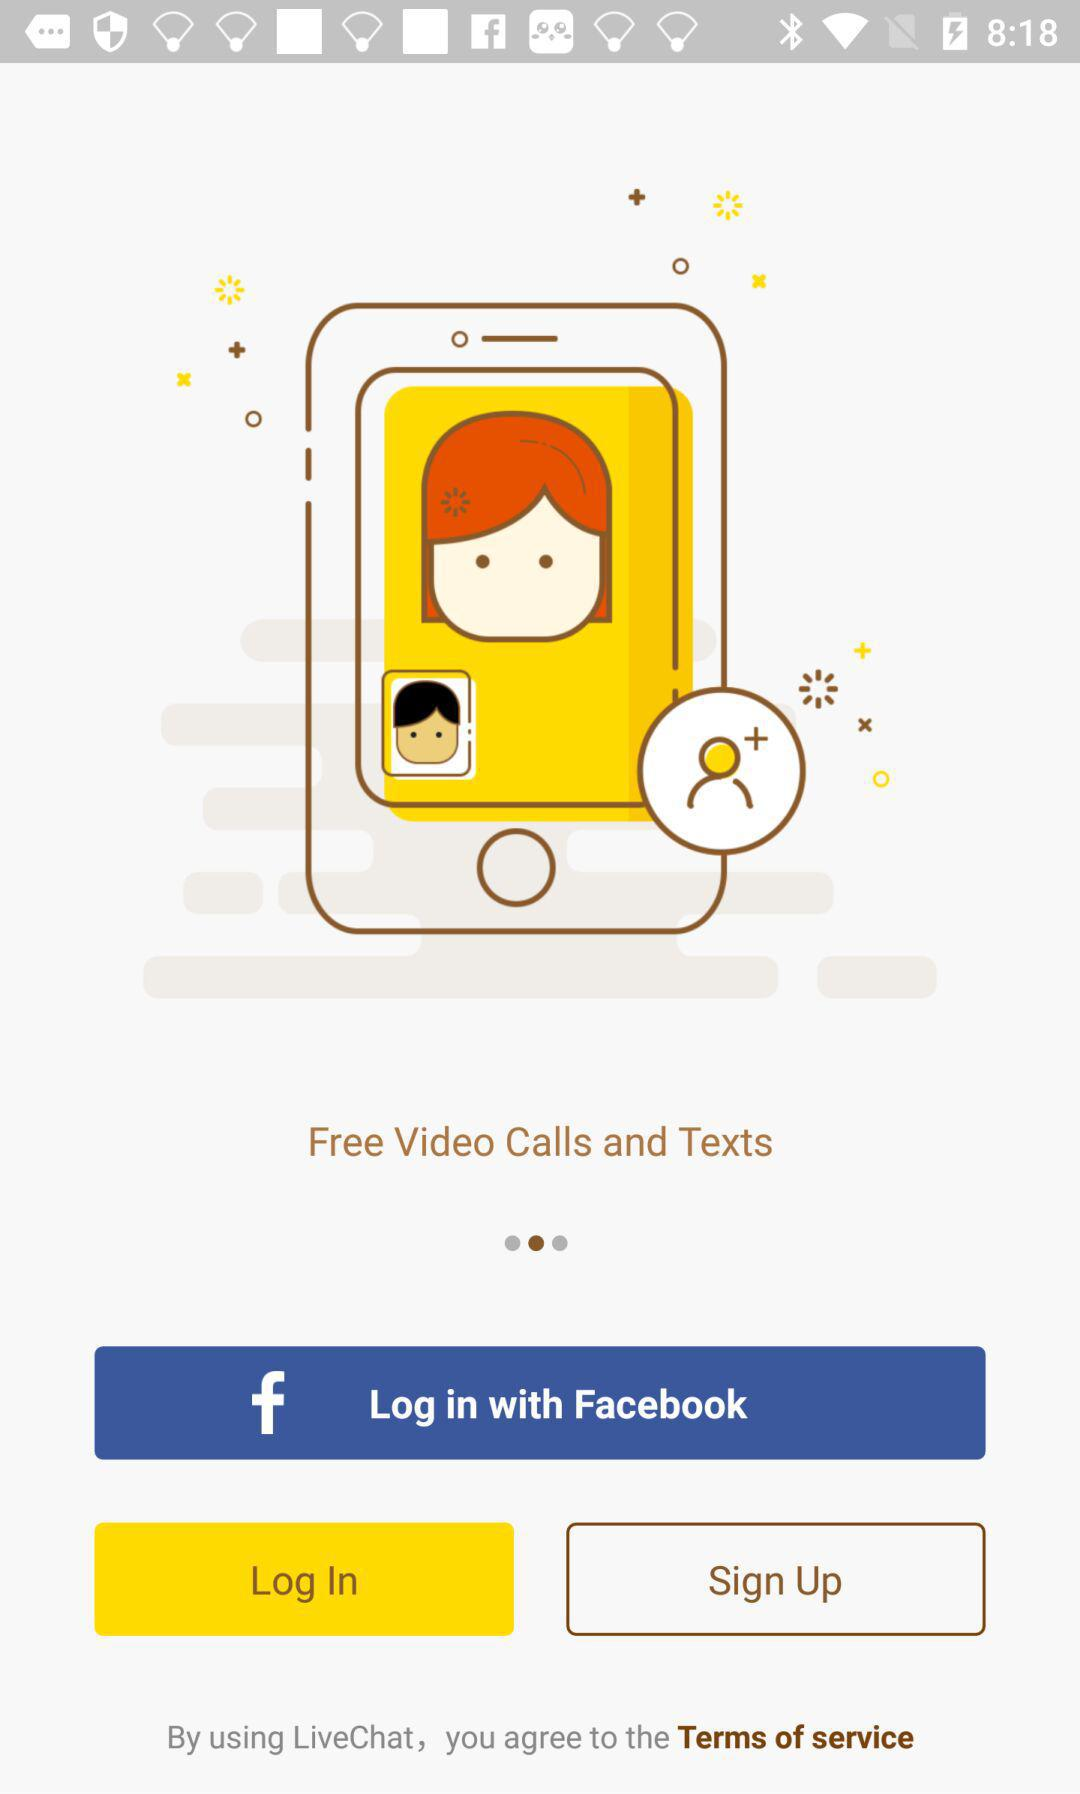Image: (142, 183, 937, 998)
PageIndicator: (503, 1234, 570, 1255)
Text: (165, 1720, 913, 1757), (309, 1125, 773, 1158)
TextButton: (95, 1345, 986, 1460), (566, 1521, 986, 1636), (94, 1522, 515, 1636)
UpperTaskBar: (1, 1, 1080, 64)
